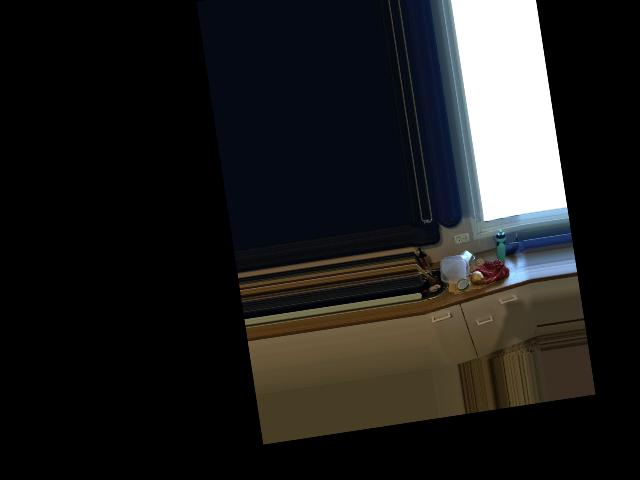onion: (470, 268, 488, 288)
